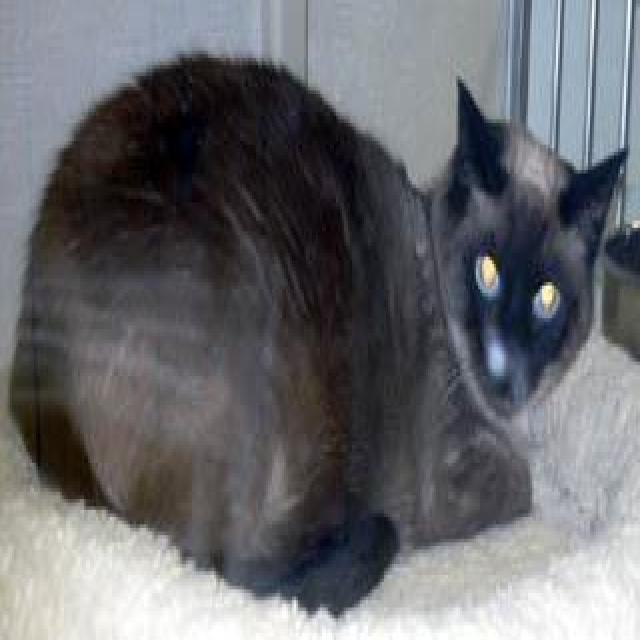cat: (37, 67, 627, 586)
